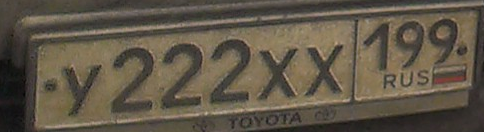character: (108, 46, 158, 115), (208, 36, 255, 105), (161, 40, 207, 109), (305, 41, 348, 99), (257, 47, 302, 102), (61, 62, 105, 118), (360, 19, 392, 74), (427, 15, 461, 66), (395, 19, 426, 70)
